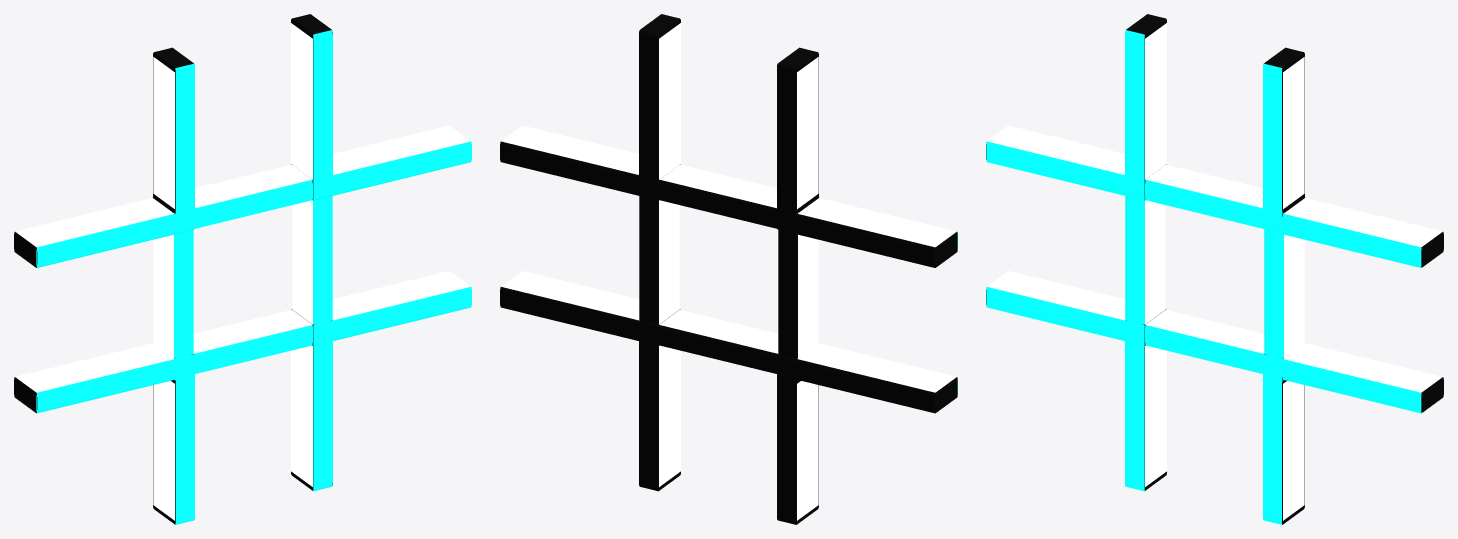
Rendered from Bounds.glb.
3 views of the same model, side by side, from view 1: azimuth 30°, elevation 25°; view 2: azimuth 150°, elevation 25°; view 3: azimuth 330°, elevation 25° (orthographic).
Parts seen in each view (by area): view 1: Bounds; view 2: Bounds; view 3: Bounds.
Boxes of the visible parts, x1,y1,x2,y2 form: Bounds: (14,14,471,524); Bounds: (500,14,957,524); Bounds: (986,14,1443,524).
Size of the model in its own units: 8.78 by 8.8 by 0.8.
